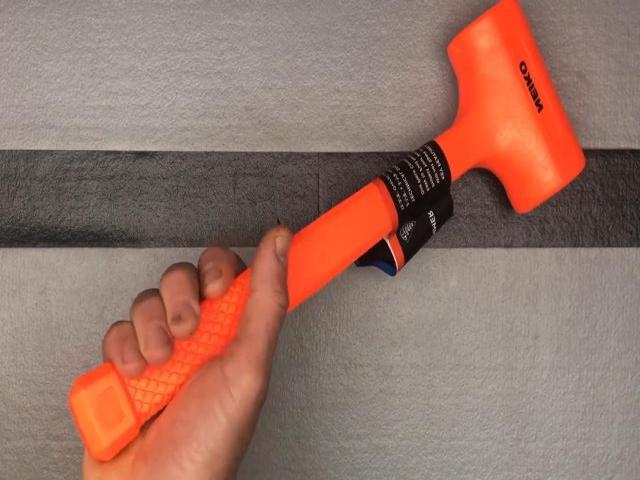hammer: (68, 0, 586, 462)
